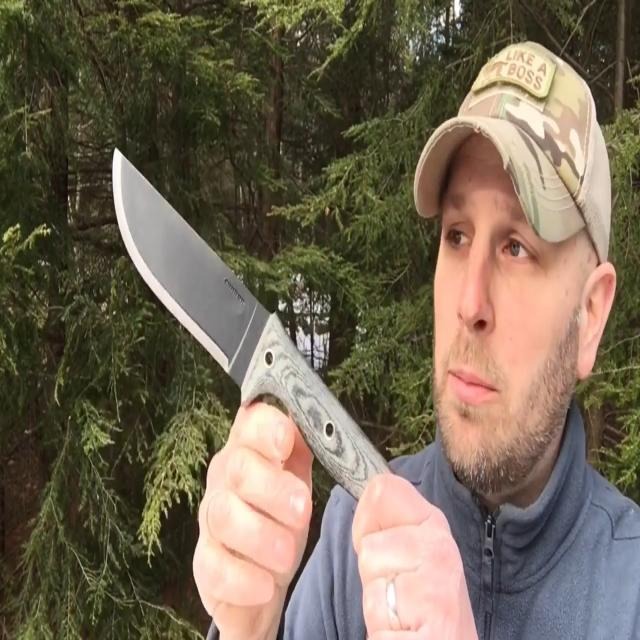knife: (108, 143, 388, 503)
